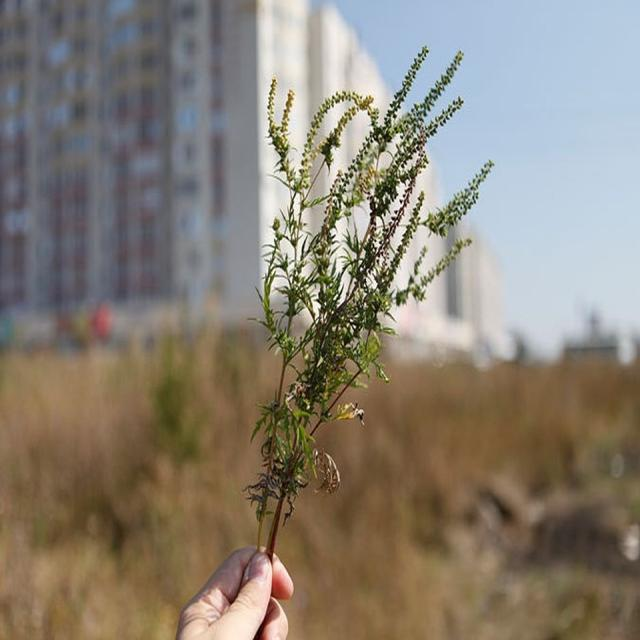ambrosia: (176, 0, 542, 537), (258, 42, 502, 353)
